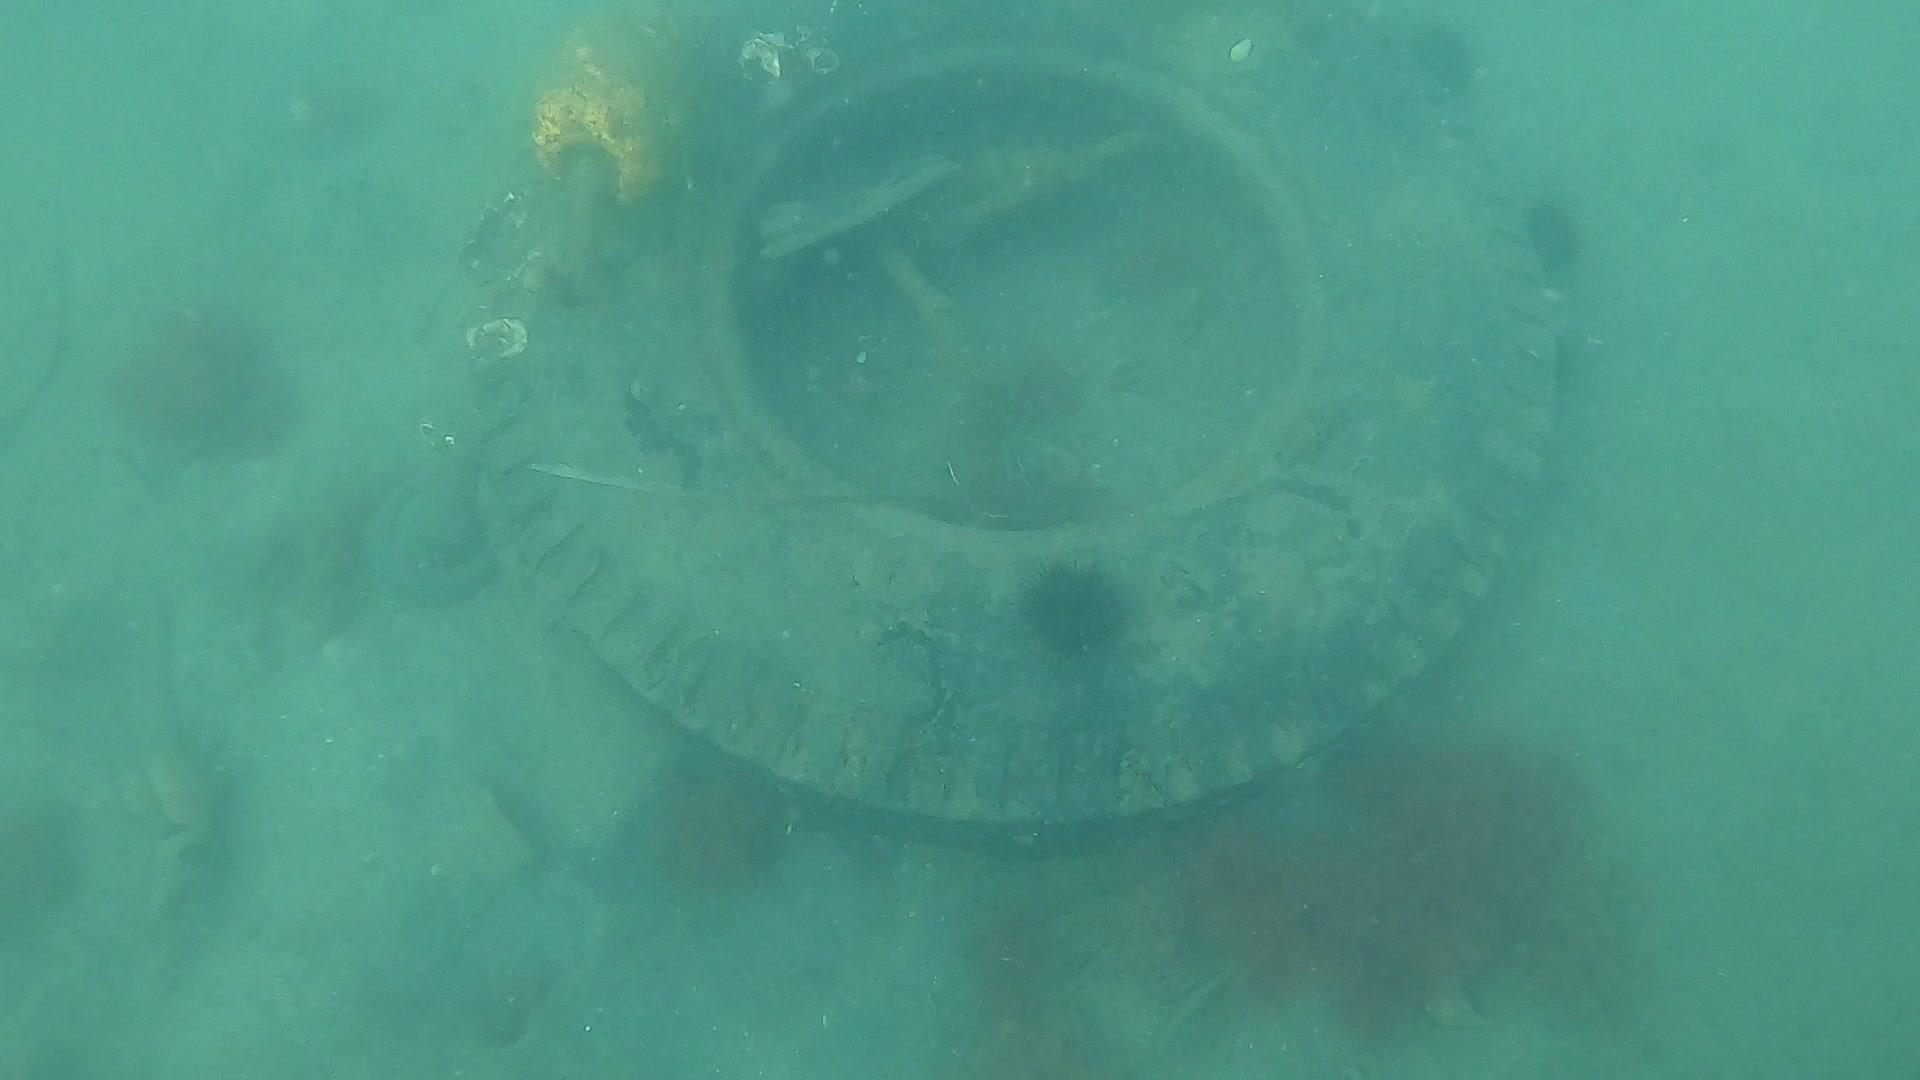tire: (460, 0, 1556, 858)
